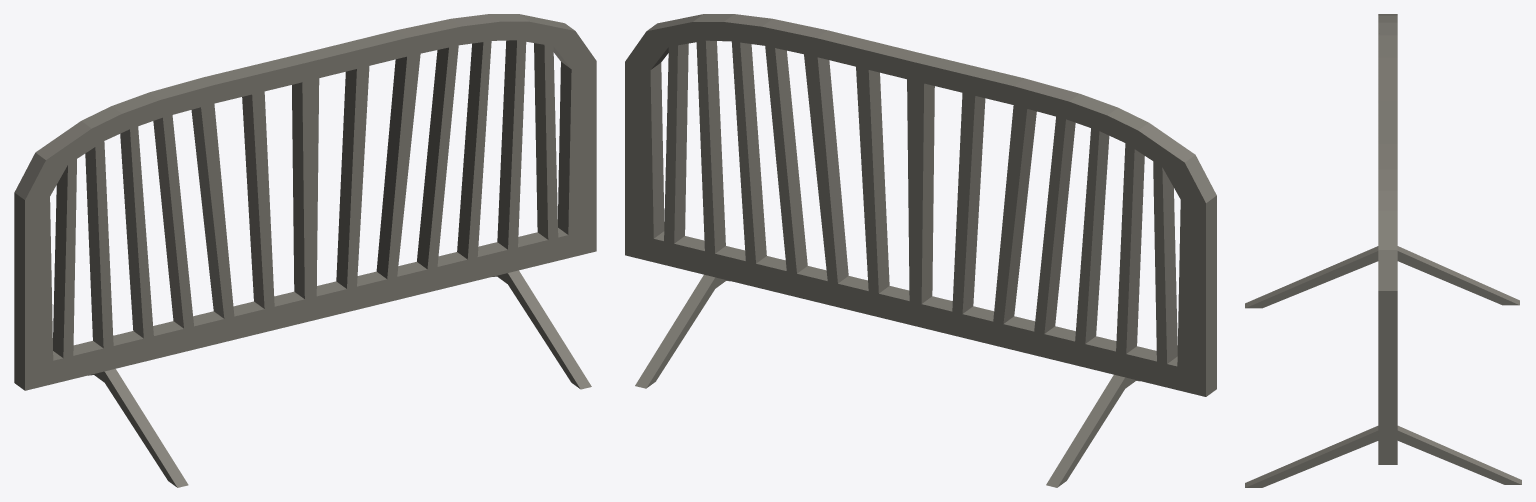
File: proteção.fbx
3 views of the same model, side by side, from view 1: azimuth 30°, elevation 25°; view 2: azimuth 150°, elevation 25°; view 3: azimuth 270°, elevation 25° (orthographic). The views are drawn at different scales.
Visible parts, largest first — view 1: grade de proteção; view 2: grade de proteção; view 3: grade de proteção.
Boxes of the visible parts, x1=… form: grade de proteção: x1=14, y1=14, x2=596, y2=487; grade de proteção: x1=625, y1=14, x2=1216, y2=487; grade de proteção: x1=1245, y1=14, x2=1521, y2=487.
Bounding box in the file's own units: 51.8 × 27.95 × 23.82.
